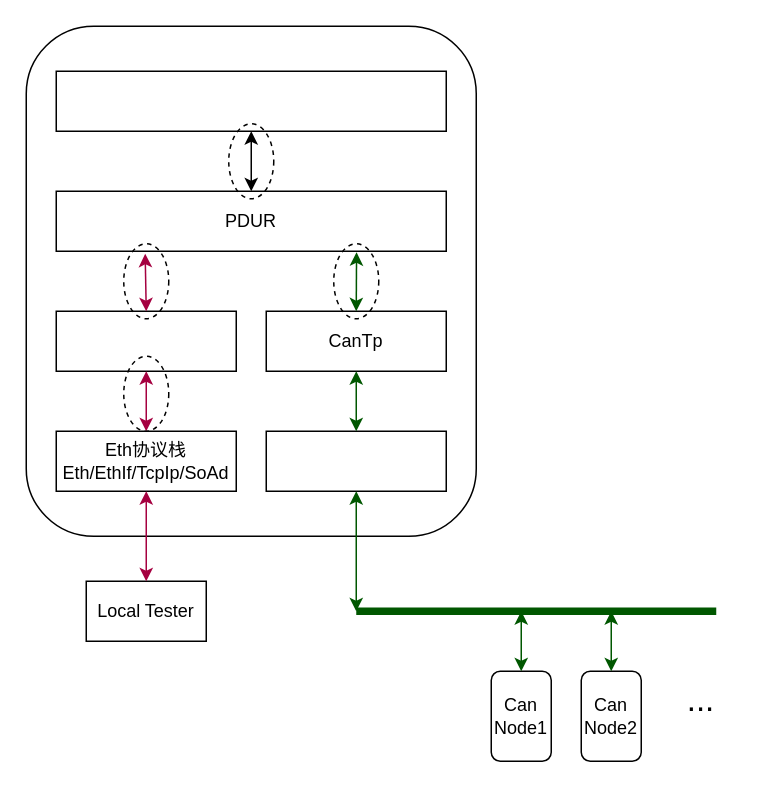
This 758x788 diagram has some shape labels left out. The shapes that lost their labels are listed below. From the top down, each one's box as (x1, y1, x2, y2) in pixels, then its label:
(55, 70, 446, 131): DCM
(55, 310, 236, 371): DoIP
(265, 430, 446, 491): Can协议栈
